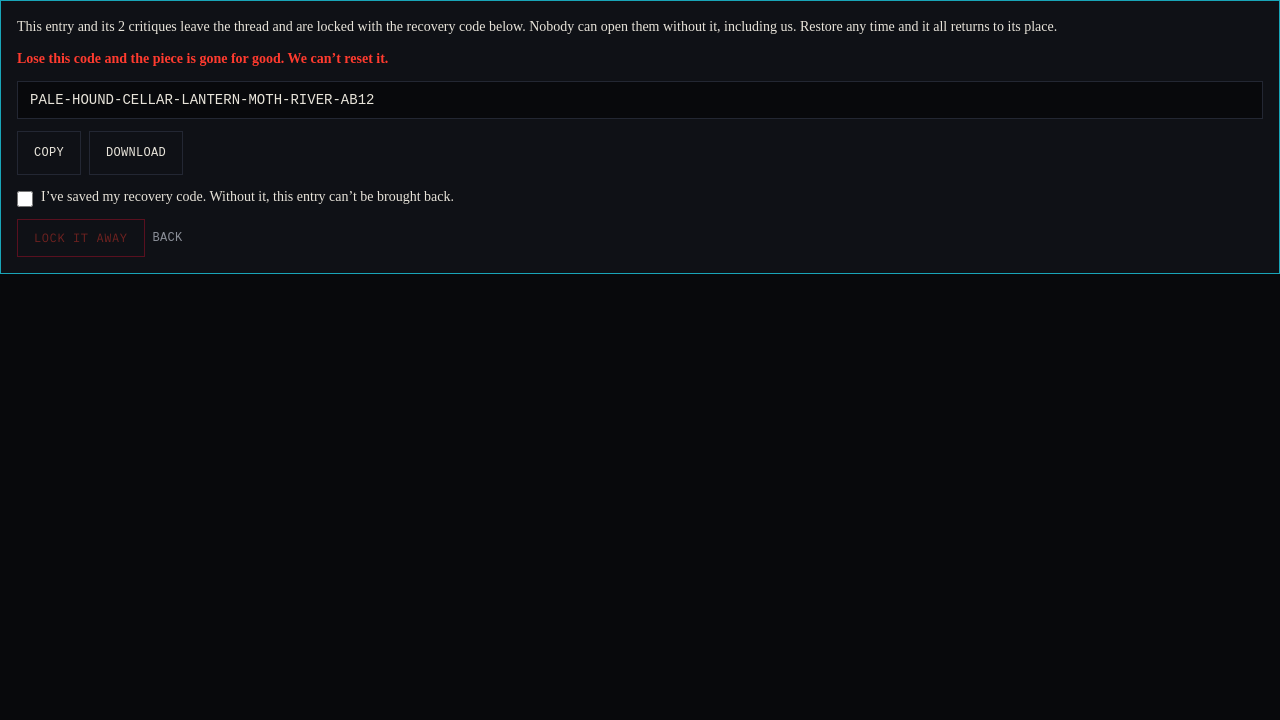
Scenario: shows a recovery code and will not lock anything away until the writer ticks they saved it
Expected: the text "PALE-HOUND-CELLAR-LANTERN-MOTH-RIVER-AB12" is shown, [17,81,1263,119]
Expected: the text "its 2 critiques leave the thread" is shown, [17,19,1057,34]
Click the checkbox labelled "saved my recovery code".
click(25, 199)  # box [17,191,33,207]
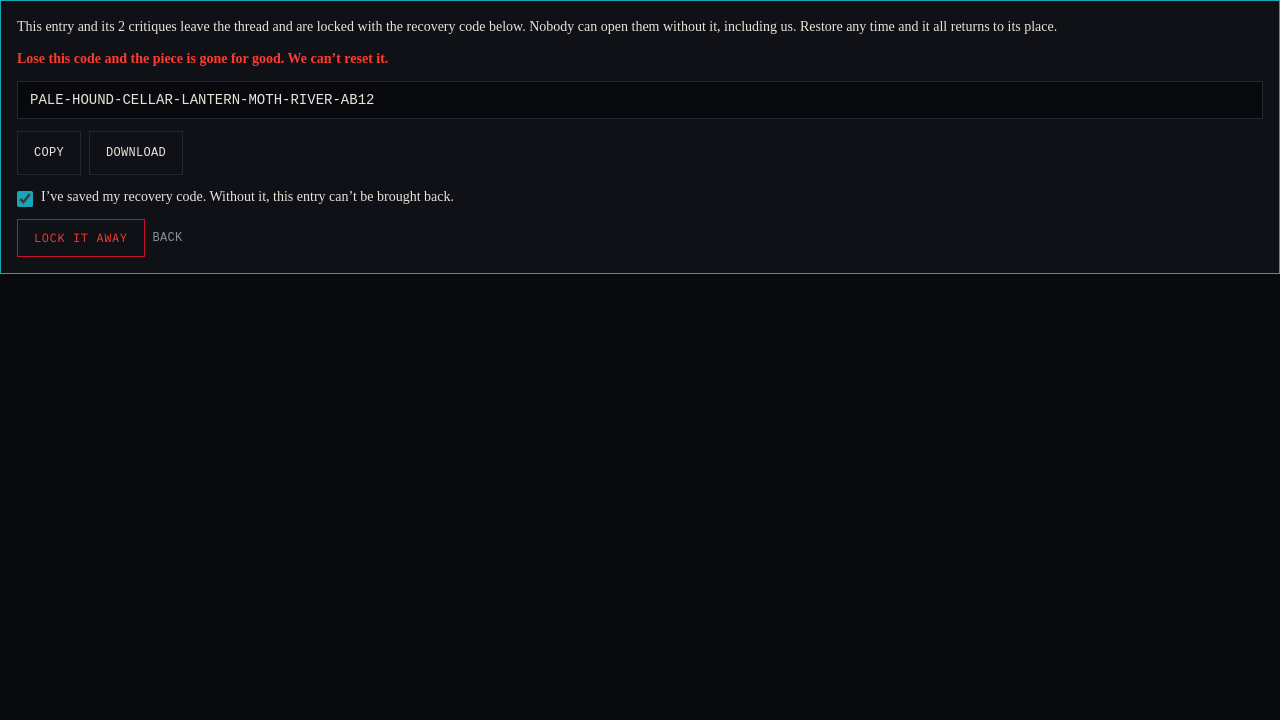
Now the button "Lock it away" is enabled, box [17,219,145,257]
